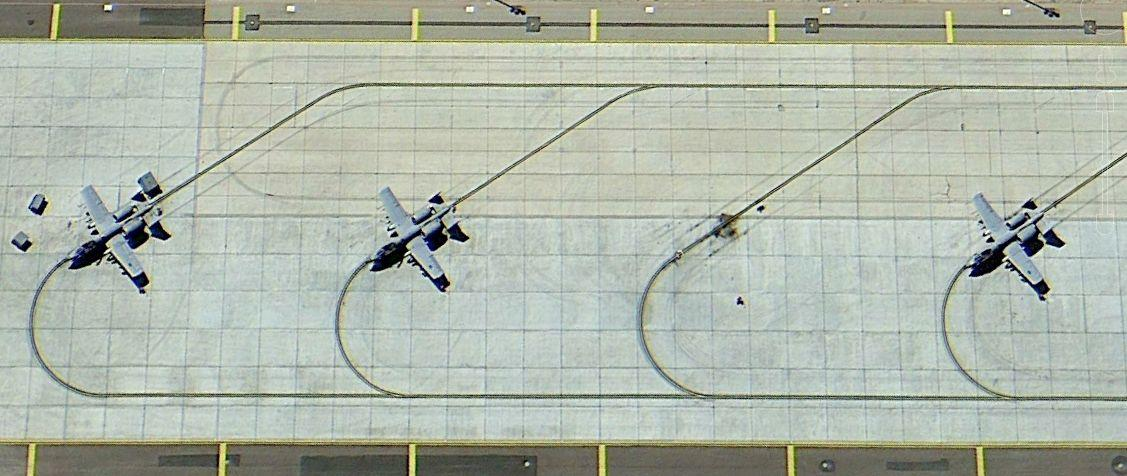A-10: (59, 180, 173, 281), (362, 184, 465, 285), (961, 190, 1061, 292)
